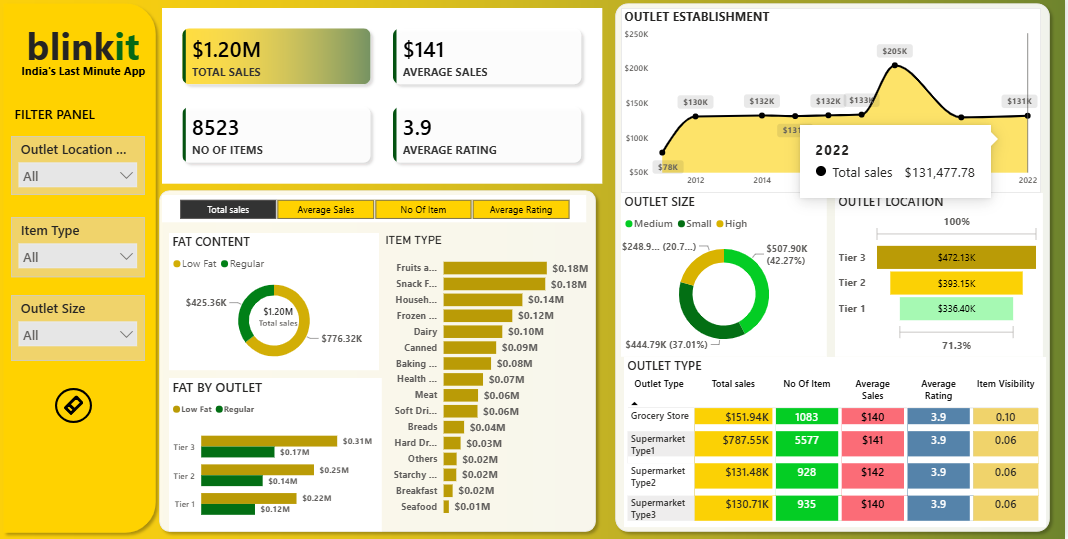

What the dashboard file says about the page in this screenshot:
{"tool":"powerbi","page":{"name":"Page 1","canvas":[1525,773],"ordinal":0},"visuals":[{"type":"shape","box":[0,0,235.7,774.3],"z":0},{"type":"textbox","box":[0,27.1,245.7,81.4],"z":1000},{"type":"textbox","box":[30,90,278.6,78.6],"z":2000},{"type":"shape","box":[222.9,267.1,641.4,505.7],"z":4000},{"type":"donutChart","title":"FAT CONTENT","fields":{"Y":["Table.Total sales"],"Category":["BlinkIT Grocery Data.Item Fat Content"]},"box":[245.7,337.1,300,195.7],"z":5000},{"type":"slicer","fields":{"Values":["Metrics.Metrics"]},"box":[235.7,282.9,605.7,38.6],"z":6000},{"type":"cardVisual","fields":{"Data":["Table.Total sales"]},"box":[344.3,425.7,115.7,61.4],"z":7000},{"type":"clusteredBarChart","title":"FAT BY OUTLET","fields":{"Y":["Table.Total sales"],"Category":["BlinkIT Grocery Data.Outlet Location Type"],"Series":["BlinkIT Grocery Data.Item Fat Content"]},"box":[245.7,544.3,304.3,218.6],"z":7001},{"type":"barChart","title":"ITEM TYPE","fields":{"Category":["BlinkIT Grocery Data.Item Type"],"Y":["Table.Total sales"]},"box":[550,337.1,300,414.3],"z":7002},{"type":"shape","box":[874.3,0,638.6,772.9],"z":7003},{"type":"lineChart","title":"OUTLET ESTABLISHMENT","fields":{"Y":["Table.Total sales"],"Category":["BlinkIT Grocery Data.Outlet Establishment Year"]},"box":[891.4,15.7,600,264.3],"z":7004},{"type":"donutChart","title":"OUTLET SIZE","fields":{"Y":["Table.Total sales"],"Category":["BlinkIT Grocery Data.Outlet Size"]},"box":[891.4,280,294.3,234.3],"z":7005},{"type":"funnel","title":"OUTLET LOCATION","fields":{"Y":["Table.Total sales"],"Category":["BlinkIT Grocery Data.Outlet Location Type"]},"box":[1197.1,280,297.1,234.3],"z":7006},{"type":"pivotTable","title":"OUTLET TYPE","fields":{"Rows":["BlinkIT Grocery Data.Outlet Type"],"Values":["Table.Total sales","Table.No Of Item","Table.Average Sales","Table.Average Rating","Avg(BlinkIT Grocery Data.Item Visibility)"]},"box":[895.7,514.3,602.9,242.9],"z":7007},{"type":"cardVisual","fields":{"Data":["Table.Total sales","Table.Average Sales","Table.No Of Item","Table.Average Rating"]},"box":[235.7,15.7,628.6,251.4],"z":7008},{"type":"slicer","fields":{"Values":["BlinkIT Grocery Data.Outlet Location Type"]},"box":[20,198.6,191.4,84.3],"z":7009},{"type":"slicer","fields":{"Values":["BlinkIT Grocery Data.Outlet Size"]},"box":[20,425.7,191.4,94.3],"z":7010},{"type":"slicer","fields":{"Values":["BlinkIT Grocery Data.Item Type"]},"box":[20,314.3,191.4,85.7],"z":7011},{"type":"textbox","box":[20,148.6,178.6,38.6],"z":7012},{"type":"actionButton","box":[82.9,558.6,52.9,50],"z":7013}]}

Visuals, with their boxes in screenshot pixels (x1, y1, x2, y2), scaled from the page's 1525x773 canvas onto the 1068x539 screenshot:
shape: [x1=0, y1=0, x2=165, y2=538]
textbox: [x1=0, y1=19, x2=172, y2=76]
textbox: [x1=21, y1=63, x2=216, y2=118]
shape: [x1=156, y1=186, x2=605, y2=538]
"FAT CONTENT" donutChart: [x1=172, y1=235, x2=382, y2=372]
slicer - Metrics.Metrics: [x1=165, y1=197, x2=589, y2=224]
cardVisual - Table.Total sales: [x1=241, y1=297, x2=322, y2=340]
"FAT BY OUTLET" clusteredBarChart: [x1=172, y1=380, x2=385, y2=532]
"ITEM TYPE" barChart: [x1=385, y1=235, x2=595, y2=524]
shape: [x1=612, y1=0, x2=1060, y2=538]
"OUTLET ESTABLISHMENT" lineChart: [x1=624, y1=11, x2=1044, y2=195]
"OUTLET SIZE" donutChart: [x1=624, y1=195, x2=830, y2=359]
"OUTLET LOCATION" funnel: [x1=838, y1=195, x2=1046, y2=359]
"OUTLET TYPE" pivotTable: [x1=627, y1=359, x2=1050, y2=528]
cardVisual - Table.Total sales x Table.Average Sales: [x1=165, y1=11, x2=605, y2=186]
slicer - BlinkIT Grocery Data.Outlet Location Type: [x1=14, y1=138, x2=148, y2=197]
slicer - BlinkIT Grocery Data.Outlet Size: [x1=14, y1=297, x2=148, y2=363]
slicer - BlinkIT Grocery Data.Item Type: [x1=14, y1=219, x2=148, y2=279]
textbox: [x1=14, y1=104, x2=139, y2=131]
actionButton: [x1=58, y1=390, x2=95, y2=424]
